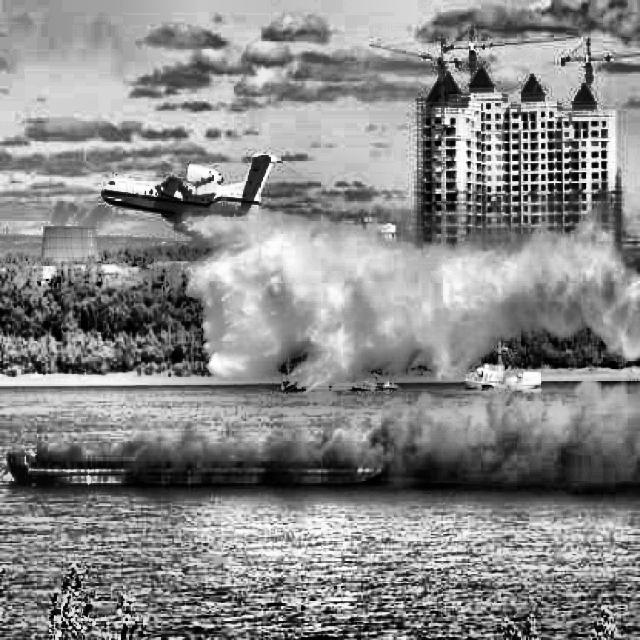Be200: (100, 150, 288, 218)
